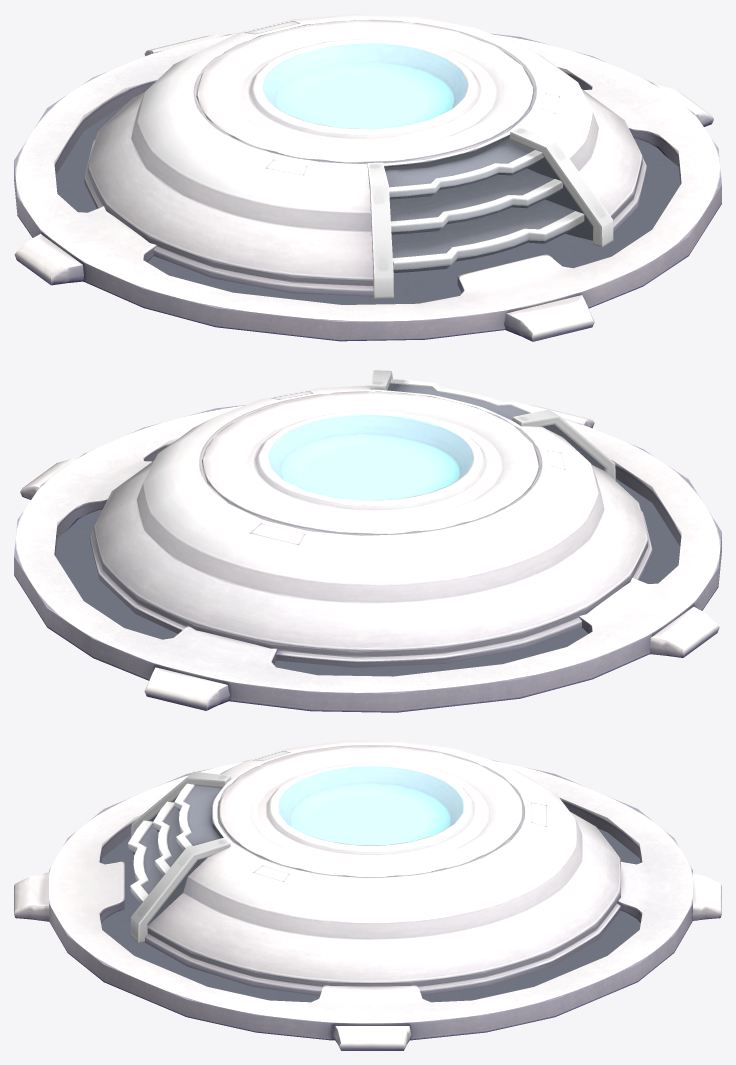
File: obj_teleport02.gltf
3 renders of one model, top to bottom at view 1: azimuth 30°, elevation 25°; view 2: azimuth 150°, elevation 25°; view 3: azimuth 270°, elevation 25°, orthographic. The views are drawn at different scales.
Parts seen in each view (by area): view 1: obj_teleport02; view 2: obj_teleport02; view 3: obj_teleport02.
Boxes of the visible parts, x1=… form: obj_teleport02: x1=14, y1=14, x2=721, y2=341; obj_teleport02: x1=14, y1=370, x2=721, y2=712; obj_teleport02: x1=14, y1=741, x2=721, y2=1050.
Size of what is drawn, in the model's own units: 2.55 by 0.3923 by 2.58.
1 material, 1 textured.
